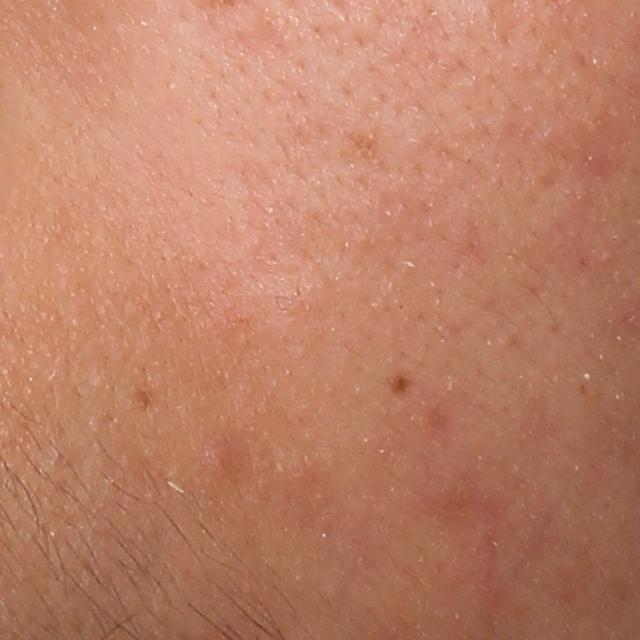nevus: (383, 370, 415, 398), (132, 384, 154, 411)
papule: (197, 431, 258, 487)
